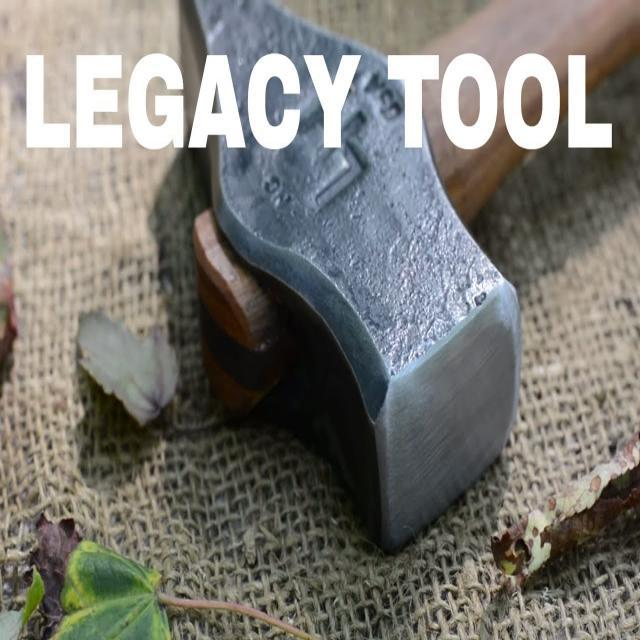hammer: (171, 0, 640, 559)
